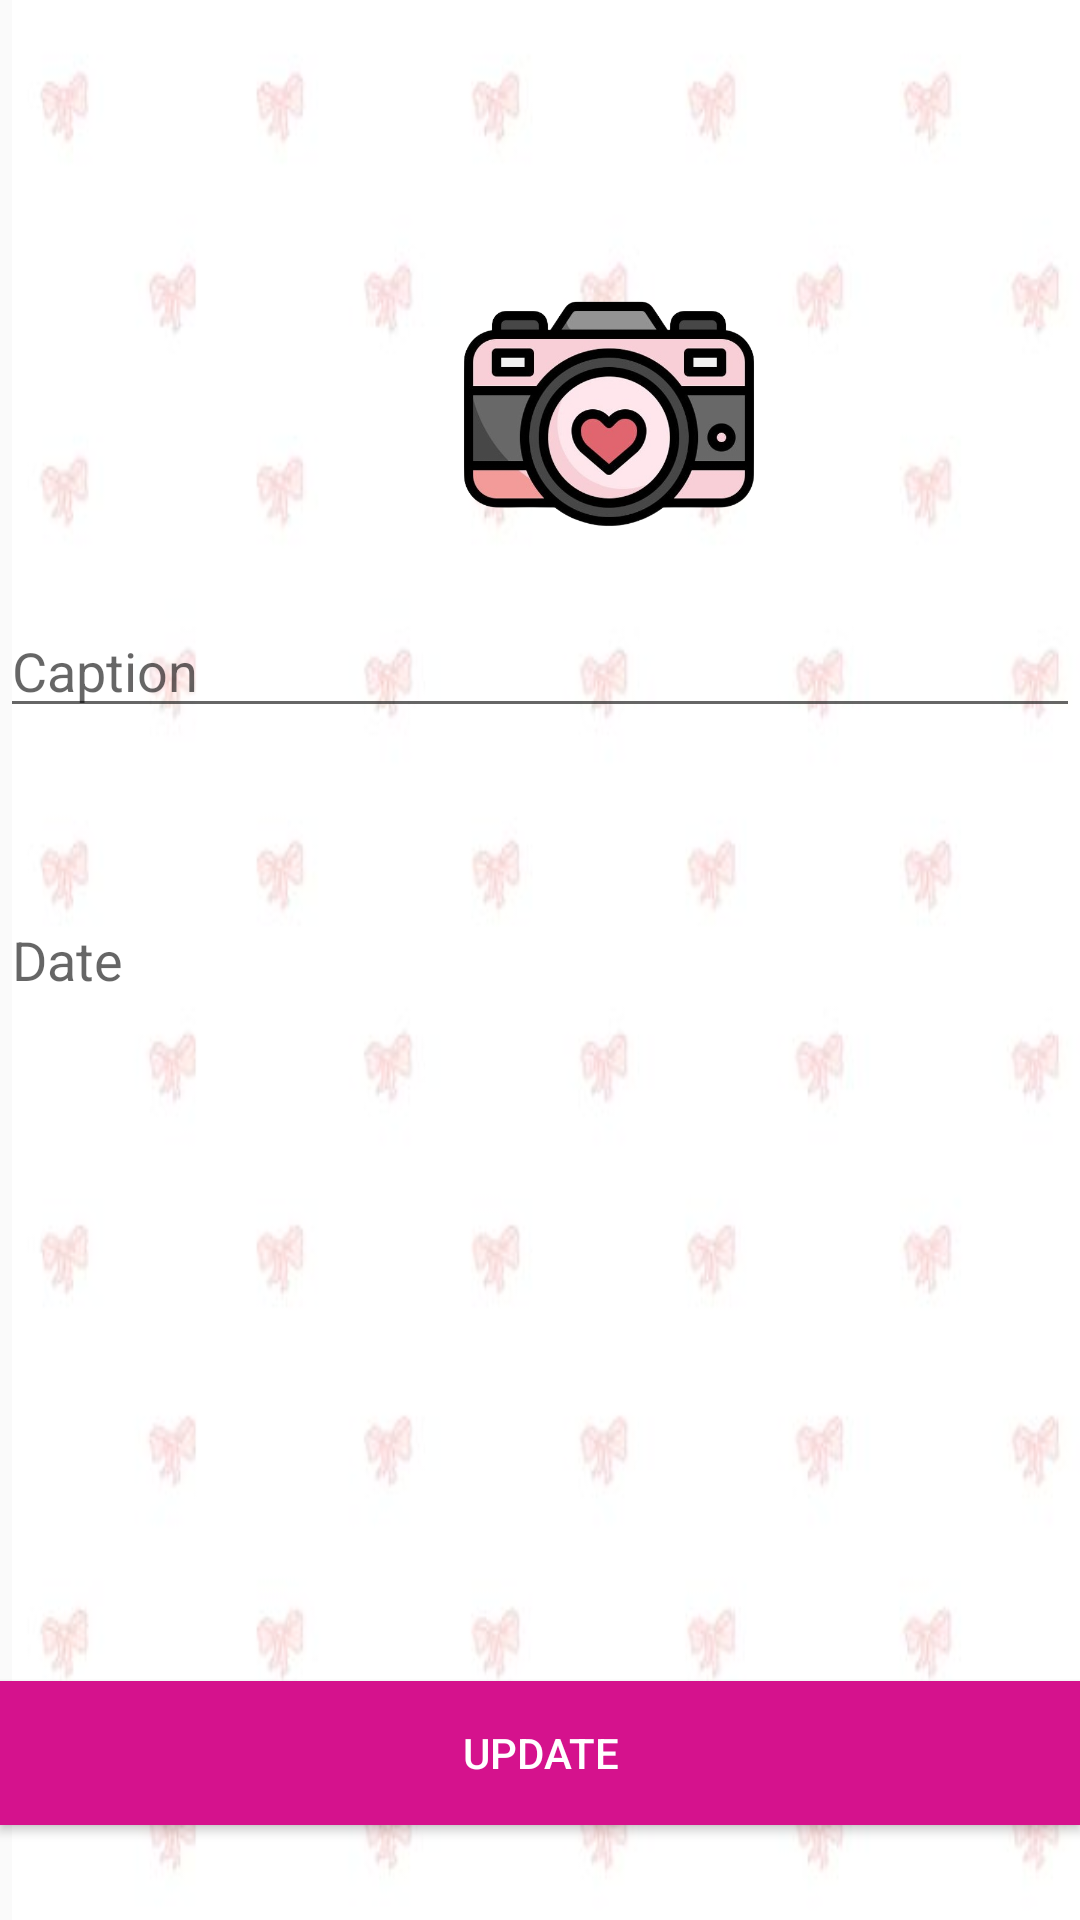

Where to tap for icons on this 1080*1920 app screen, as point (x, y):
cam: point (609, 396)
